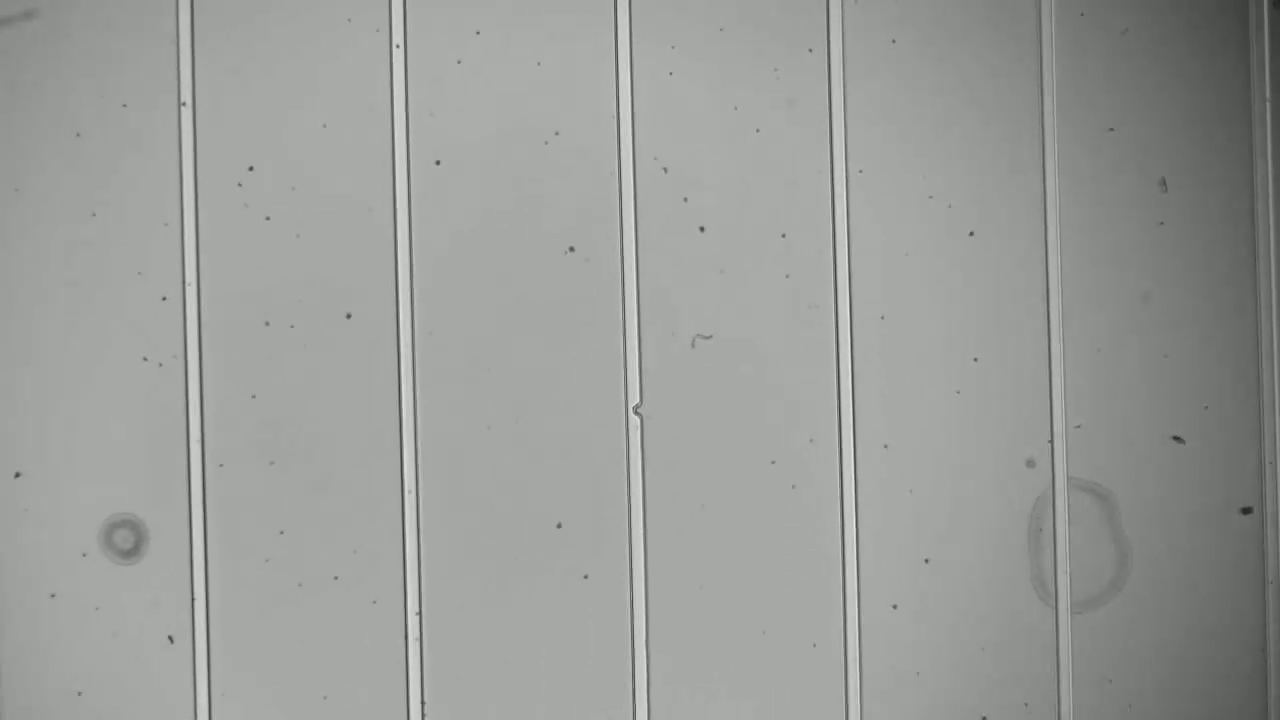edge_bite: (619, 396, 650, 423)
